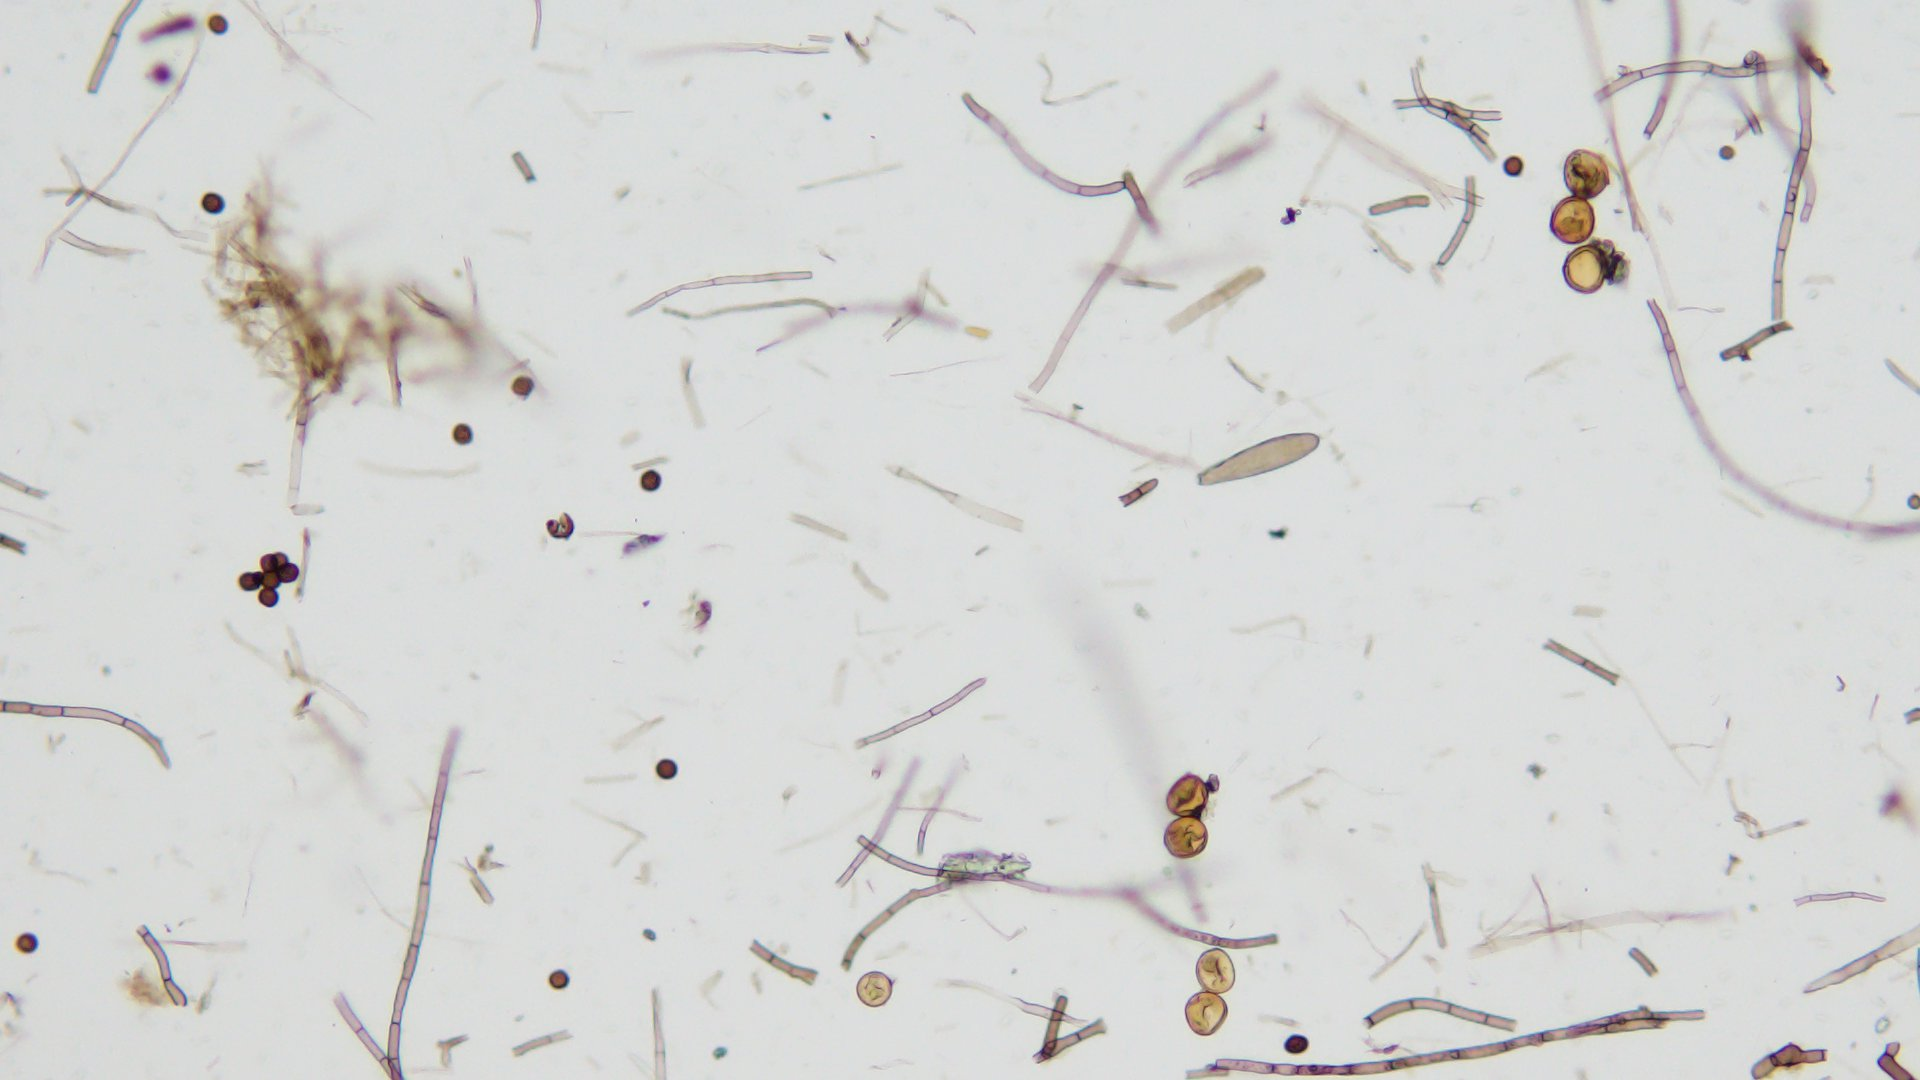dbb_spore: (1193, 433, 1317, 488)
shs_spore: (199, 195, 227, 218), (1282, 1034, 1309, 1054), (452, 423, 476, 446), (640, 467, 661, 491), (255, 553, 278, 574), (655, 760, 679, 781), (510, 375, 533, 396), (18, 932, 41, 953), (256, 589, 280, 609), (236, 571, 261, 589), (276, 563, 298, 582), (208, 15, 228, 34), (550, 971, 570, 986)
xb_spore: (1549, 195, 1598, 241), (1160, 814, 1208, 858), (1164, 773, 1209, 818), (1565, 148, 1606, 196), (1185, 990, 1226, 1036), (1196, 945, 1237, 990), (1567, 247, 1607, 291), (855, 971, 894, 1007)
